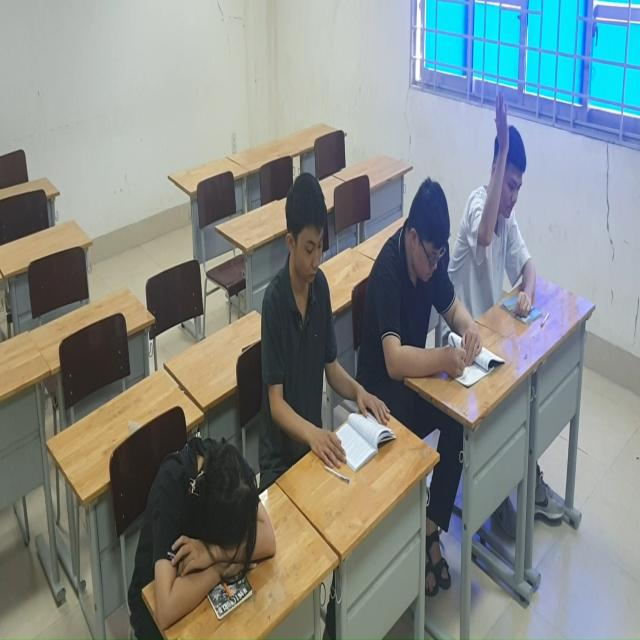raise_hand: (444, 82, 568, 350)
read: (258, 169, 404, 490), (373, 178, 485, 425)
sleep: (124, 439, 295, 640)
